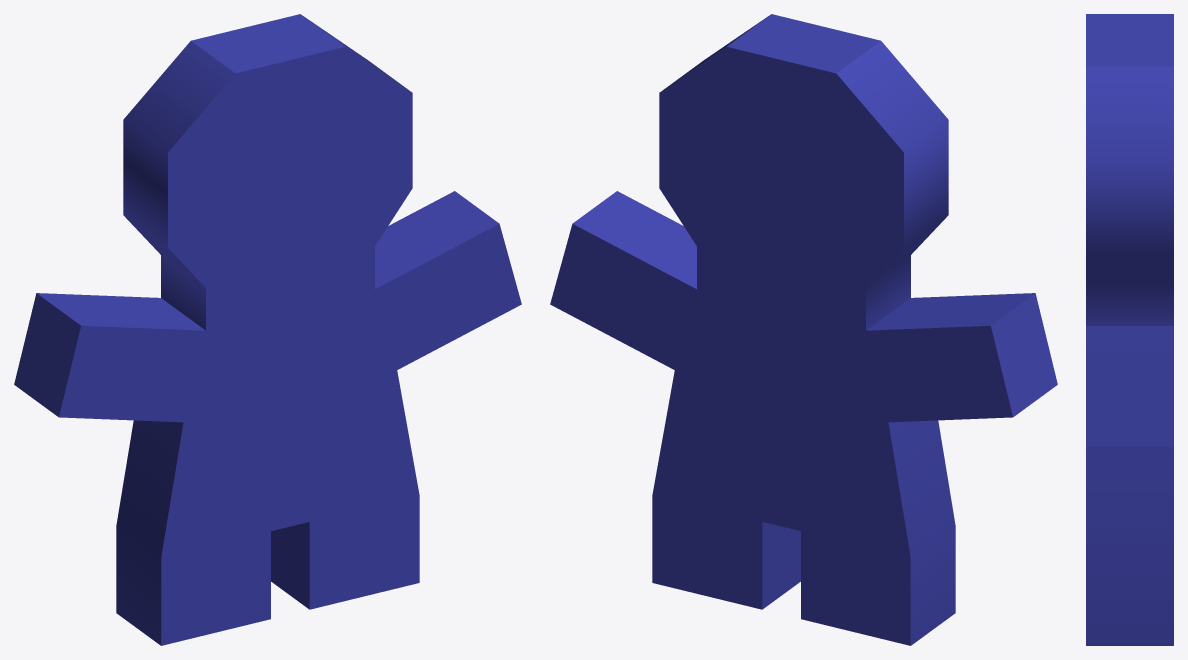
The model's file is cookieGingerbread.FBX.
3 renders of one model, left to right at view 1: azimuth 30°, elevation 25°; view 2: azimuth 150°, elevation 25°; view 3: azimuth 270°, elevation 25°, orthographic.
Visible parts, largest first — view 1: cookie_gingerbread; view 2: cookie_gingerbread; view 3: cookie_gingerbread.
Part boxes in pixels (bbox=[...]): cookie_gingerbread: bbox=[14, 14, 521, 645]; cookie_gingerbread: bbox=[550, 14, 1057, 645]; cookie_gingerbread: bbox=[1086, 14, 1173, 645].
Size of the model in its own units: 1.79 by 2.05 by 0.3.
